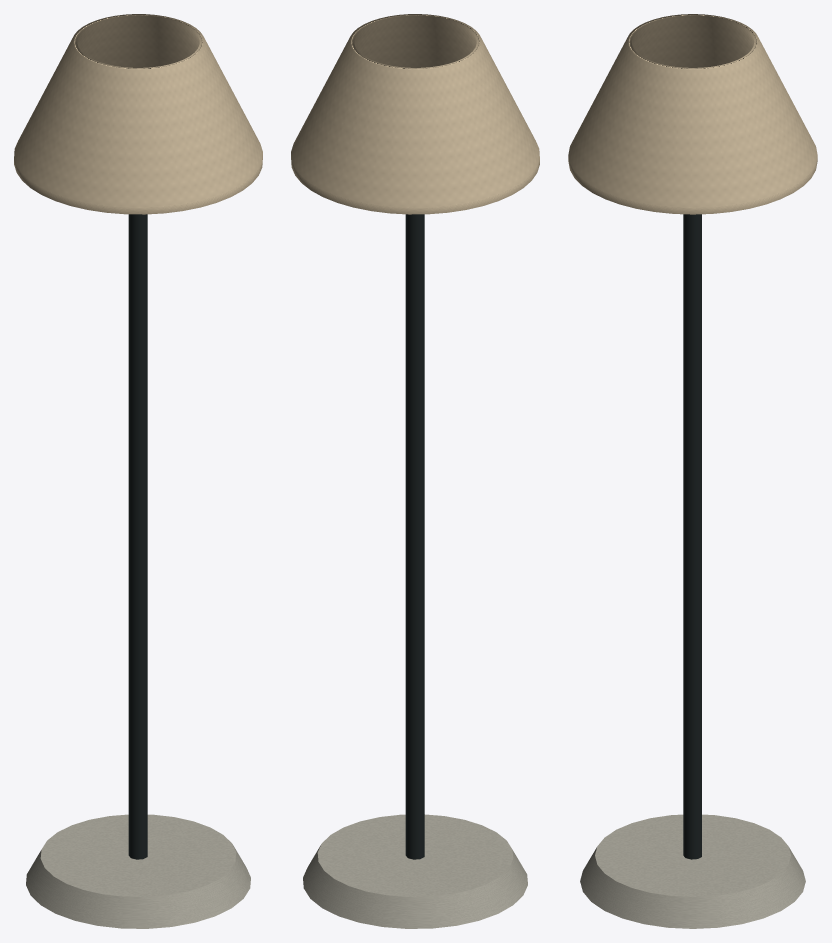
Rendered from floor_lamp_engawa-b0d18c5915cc.glb.
3 renders of one model, left to right at view 1: azimuth 30°, elevation 25°; view 2: azimuth 150°, elevation 25°; view 3: azimuth 270°, elevation 25°, orthographic.
Visible parts, largest first — view 1: surface_linen, surface_stone, surface_black; view 2: surface_linen, surface_stone, surface_black; view 3: surface_linen, surface_stone, surface_black.
Boxes of the visible parts, bbox=[...] form: surface_linen: bbox=[14, 14, 262, 214]; surface_stone: bbox=[26, 814, 250, 928]; surface_black: bbox=[128, 214, 147, 859]; surface_linen: bbox=[291, 14, 539, 214]; surface_stone: bbox=[303, 814, 527, 928]; surface_black: bbox=[405, 214, 424, 859]; surface_linen: bbox=[568, 14, 817, 214]; surface_stone: bbox=[580, 814, 805, 928]; surface_black: bbox=[683, 214, 701, 859].
Bounding box in the file's own units: 0.386 × 1.43 × 0.386.
4 materials, 2 textured.
